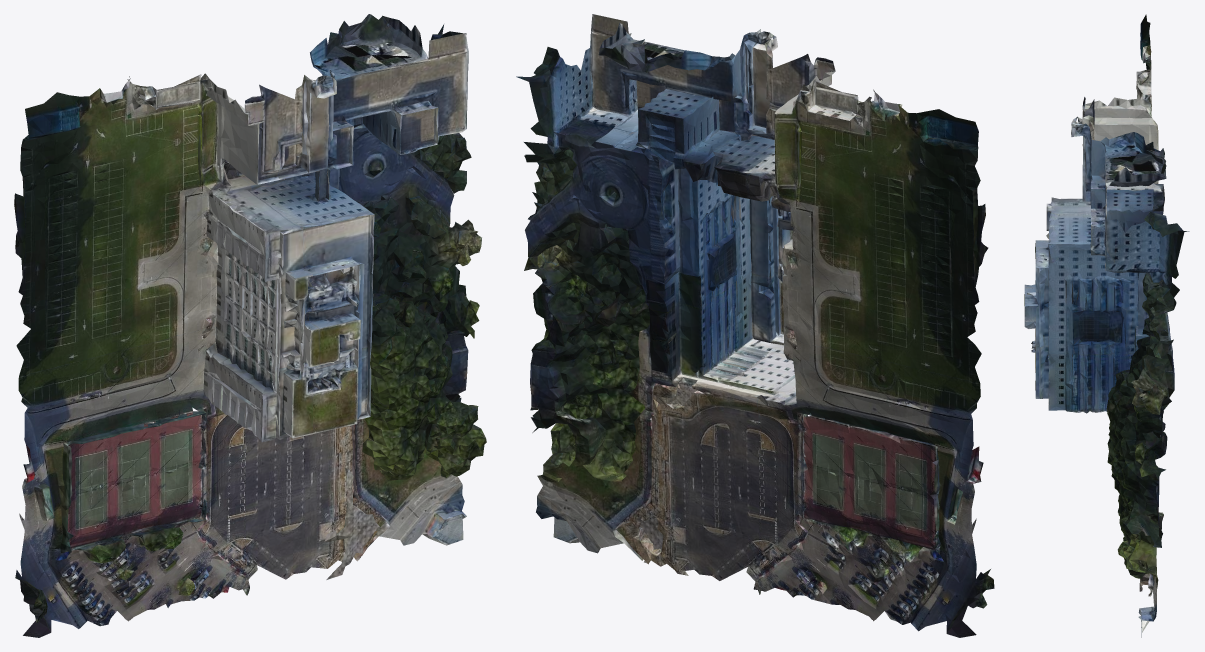
File: level_1_0_0.obj
3 renders of one model, left to right at view 1: azimuth 30°, elevation 25°; view 2: azimuth 150°, elevation 25°; view 3: azimuth 270°, elevation 25°, orthographic. The views are drawn at different scales.
Parts seen in each view (by area): view 1: group_tex_0; view 2: group_tex_0; view 3: group_tex_0.
Part boxes in pixels (box(x1,y1,x2,y2)): group_tex_0: box(14, 14, 486, 637); group_tex_0: box(516, 14, 994, 637); group_tex_0: box(1024, 14, 1189, 637).
Size of the model in its own units: 160 by 180 by 59.26.
Materials: 1 (1 with a texture image).
